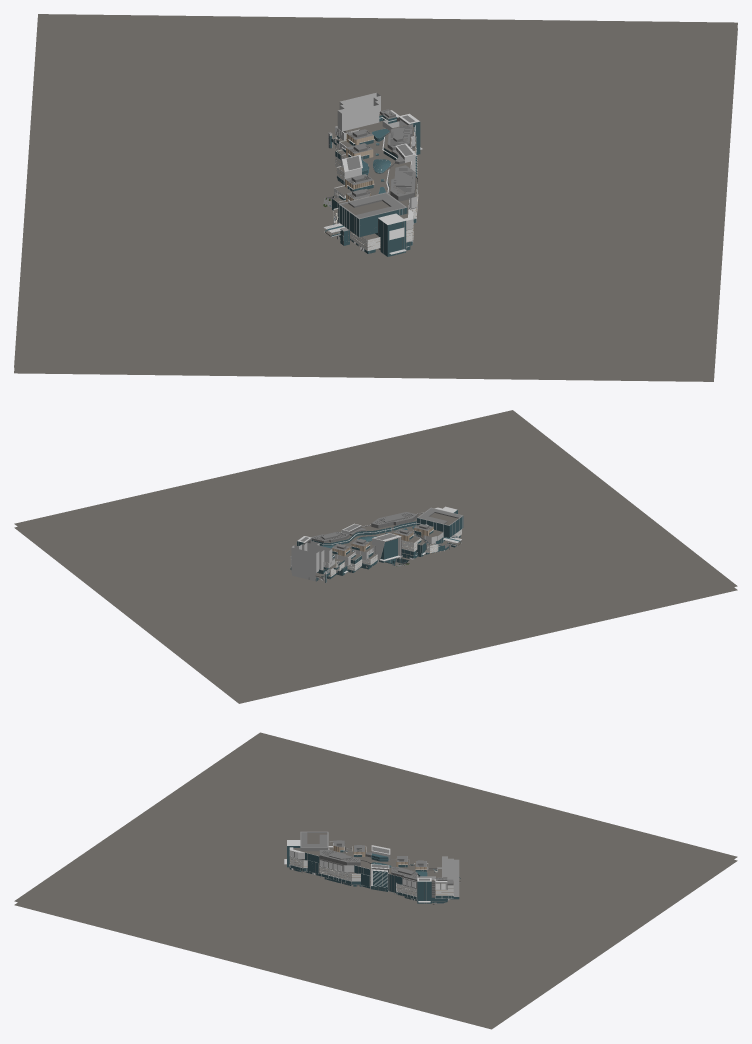
File: venue-c-event.glb
3 views of the same model, one above another, from view 1: azimuth 30°, elevation 25°; view 2: azimuth 150°, elevation 25°; view 3: azimuth 270°, elevation 25° (orthographic). The views are drawn at different scales.
Visible parts, largest first — view 1: Original geometry material 4, Original geometry material 2, Original geometry material 0, Original geometry material 21, Original geometry material 1, Original geometry material 18, Original geometry material 5; view 2: Original geometry material 4, Original geometry material 2, Original geometry material 0, Original geometry material 21, Original geometry material 18; view 3: Original geometry material 4, Original geometry material 0, Original geometry material 2, Original geometry material 21, Original geometry material 18, Original geometry material 1, Original geometry material 5.
Part boxes in pixels (x1=…): Original geometry material 4: x1=14, y1=14, x2=737, y2=381; Original geometry material 2: x1=324, y1=92, x2=422, y2=254; Original geometry material 0: x1=325, y1=115, x2=420, y2=256; Original geometry material 21: x1=345, y1=109, x2=415, y2=218; Original geometry material 1: x1=323, y1=117, x2=417, y2=254; Original geometry material 18: x1=333, y1=137, x2=417, y2=251; Original geometry material 5: x1=326, y1=112, x2=417, y2=250; Original geometry material 4: x1=14, y1=410, x2=737, y2=703; Original geometry material 2: x1=290, y1=506, x2=463, y2=582; Original geometry material 0: x1=290, y1=510, x2=463, y2=582; Original geometry material 21: x1=300, y1=508, x2=461, y2=550; Original geometry material 18: x1=290, y1=529, x2=461, y2=576; Original geometry material 4: x1=14, y1=732, x2=737, y2=1029; Original geometry material 0: x1=287, y1=846, x2=460, y2=903; Original geometry material 2: x1=284, y1=832, x2=459, y2=902; Original geometry material 21: x1=301, y1=832, x2=453, y2=885; Original geometry material 18: x1=289, y1=846, x2=453, y2=896; Original geometry material 1: x1=290, y1=831, x2=453, y2=903; Original geometry material 5: x1=290, y1=845, x2=460, y2=899.
Size of the model in its own units: 1204 by 62.07 by 1256.
